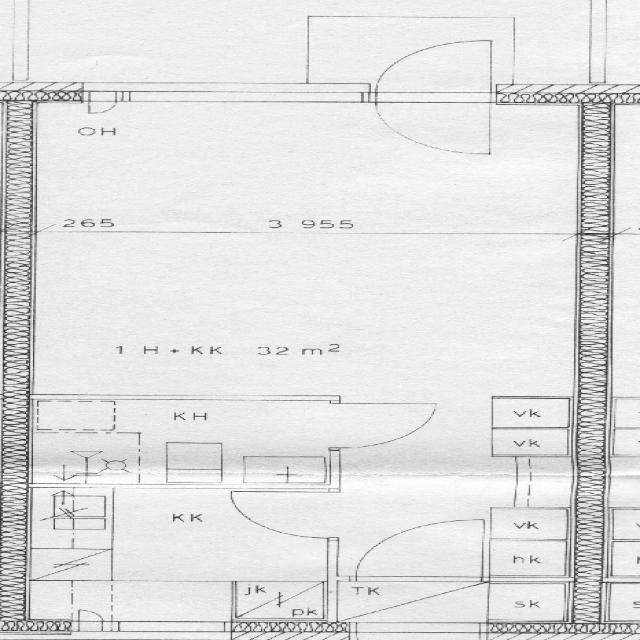door: (356, 516, 482, 581), (375, 92, 490, 155), (375, 38, 490, 101), (328, 402, 433, 448), (232, 492, 338, 537), (356, 621, 479, 640)
